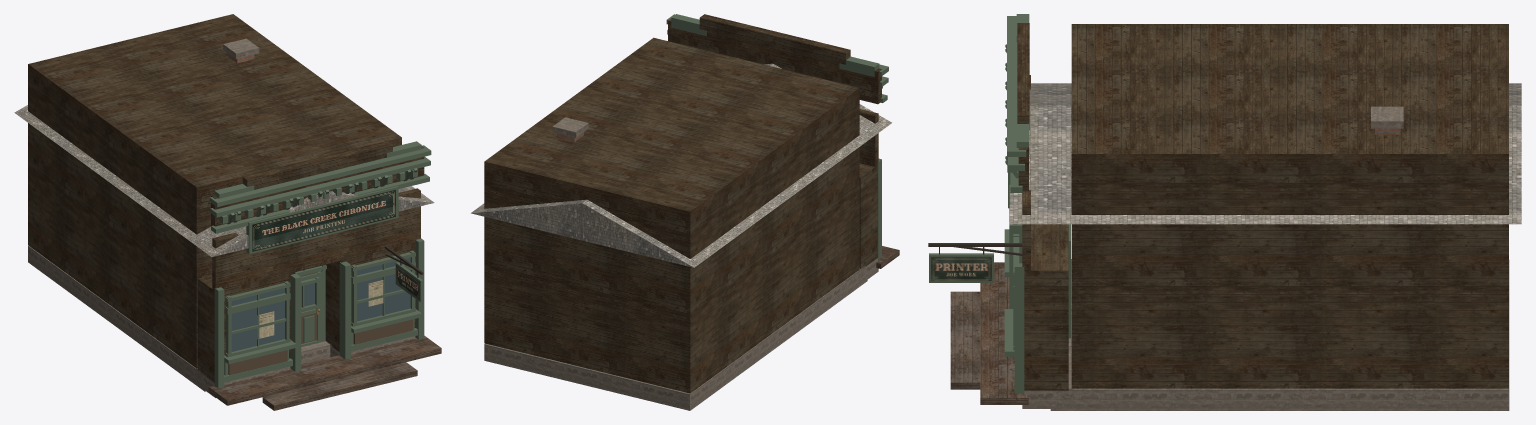
File: chronicle_print_shop.glb
3 renders of one model, left to right at view 1: azimuth 30°, elevation 25°; view 2: azimuth 150°, elevation 25°; view 3: azimuth 270°, elevation 25°, orthographic. The views are drawn at different scales.
Visible parts, largest first — view 1: Photographic pine | grade and eave AO, Trim chronicle_print_shop, Photographic pine, Rubble foundation, Split slate, Print_chronicle, Cold cylinder glass, Door chronicle_print_shop, Print_printer.001; view 2: Photographic pine | grade and eave AO, Split slate, Rubble foundation, Trim chronicle_print_shop; view 3: Photographic pine | grade and eave AO, Split slate, Rubble foundation, Photographic pine, Trim chronicle_print_shop, Print_printer, Patinated cast iron.
Part boxes in pixels (left/top/right/bottom): Photographic pine | grade and eave AO: left=28, top=14, right=424, bottom=382; Trim chronicle_print_shop: left=209, top=141, right=431, bottom=388; Photographic pine: left=208, top=335, right=441, bottom=410; Rubble foundation: left=28, top=38, right=416, bottom=397; Split slate: left=14, top=105, right=434, bottom=256; Print_chronicle: left=252, top=189, right=395, bottom=251; Cold cylinder glass: left=231, top=257, right=410, bottom=351; Door chronicle_print_shop: left=228, top=271, right=413, bottom=375; Print_printer.001: left=396, top=265, right=419, bottom=299; Photographic pine | grade and eave AO: left=484, top=14, right=881, bottom=393; Split slate: left=471, top=63, right=891, bottom=267; Rubble foundation: left=484, top=117, right=878, bottom=410; Trim chronicle_print_shop: left=666, top=14, right=888, bottom=259; Photographic pine | grade and eave AO: left=1017, top=23, right=1508, bottom=390; Split slate: left=1009, top=83, right=1521, bottom=224; Rubble foundation: left=1022, top=106, right=1509, bottom=410; Photographic pine: left=950, top=262, right=1028, bottom=404; Trim chronicle_print_shop: left=929, top=14, right=1070, bottom=393; Print_printer: left=931, top=257, right=991, bottom=280; Patinated cast iron: left=928, top=243, right=1022, bottom=255.
Size of the model in its own units: 6.52 by 5.97 by 11.59.
Materials: 14 (8 with a texture image).
